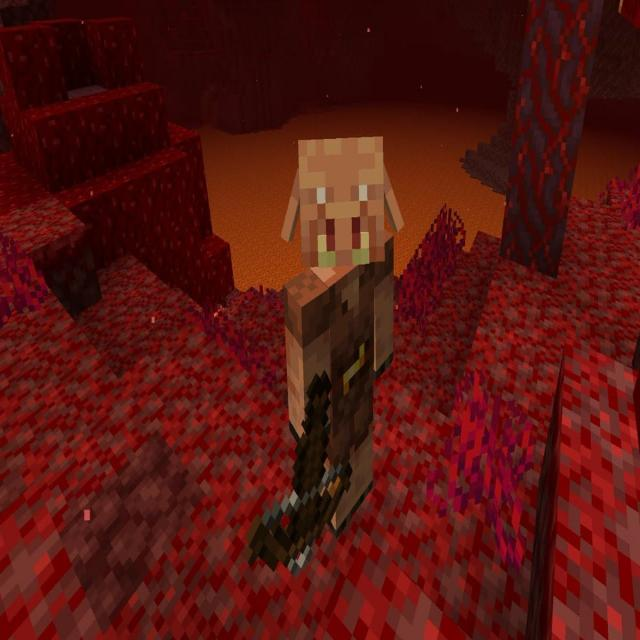Piglin: (244, 131, 406, 575)
